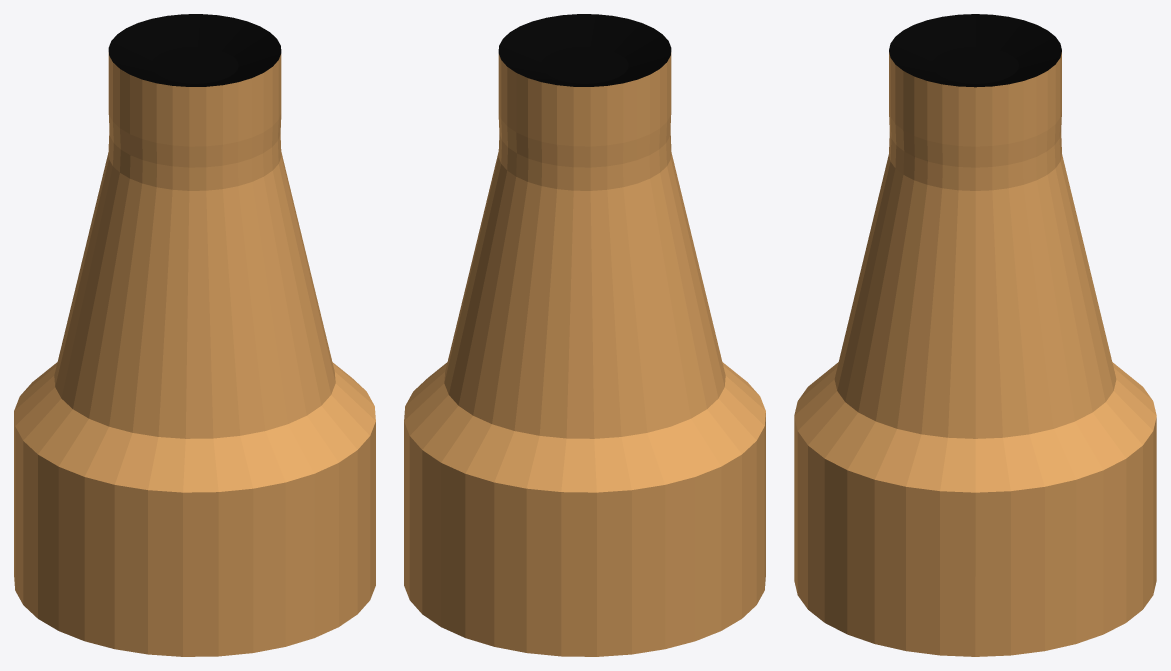
File: cannon.fbx
3 renders of one model, left to right at view 1: azimuth 30°, elevation 25°; view 2: azimuth 150°, elevation 25°; view 3: azimuth 270°, elevation 25°, orthographic.
Parts seen in each view (by area): view 1: 円柱; view 2: 円柱; view 3: 円柱.
Part boxes in pixels (x1,y1,x2,y2): 円柱: (14,14,375,656); 円柱: (404,14,765,656); 円柱: (794,14,1156,656).
Size of the model in its own units: 200 by 322 by 200.
